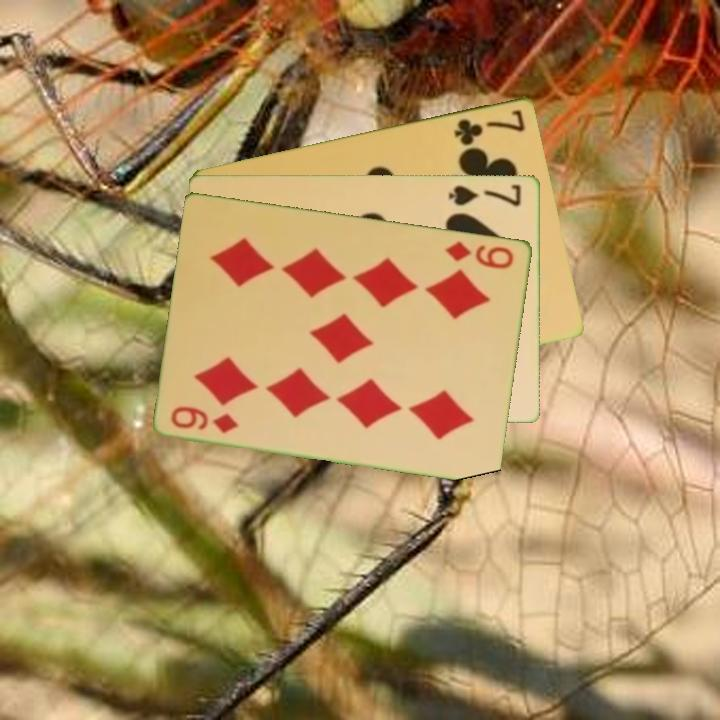7c: (451, 105, 528, 147)
7s: (446, 180, 524, 209)
9d: (442, 237, 517, 272), (168, 402, 242, 436)
